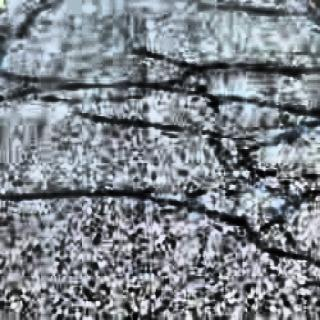alligator-crack: (0, 43, 320, 274)
crack: (204, 0, 317, 32), (8, 1, 63, 36)
